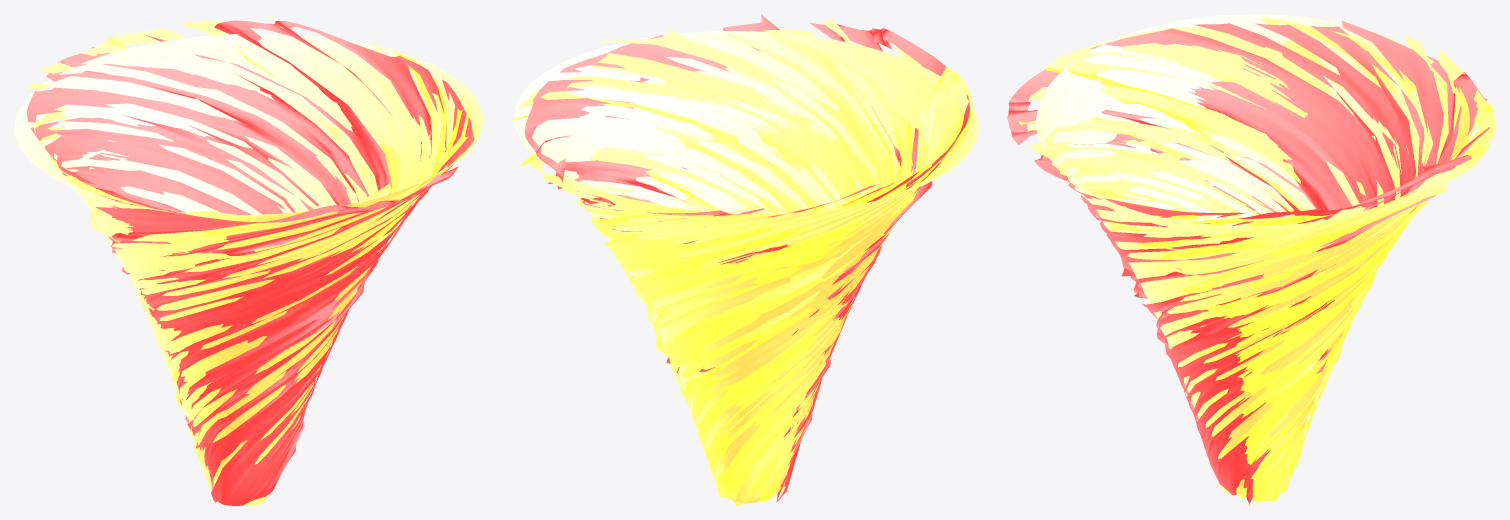
Rendered from tonado.fbx.
3 views of the same model, side by side, from view 1: azimuth 30°, elevation 25°; view 2: azimuth 150°, elevation 25°; view 3: azimuth 270°, elevation 25° (orthographic).
Visible parts, largest first — view 1: Object_15, Object_9, Object_12; view 2: Object_9, Object_12, Object_15; view 3: Object_12, Object_15, Object_9.
Boxes of the visible parts, x1,y1,x2,y2 form: Object_15: (27, 20, 474, 505); Object_9: (14, 33, 482, 505); Object_12: (30, 14, 469, 490); Object_9: (514, 31, 978, 503); Object_12: (511, 18, 974, 505); Object_15: (524, 14, 969, 502); Object_12: (1018, 18, 1495, 501); Object_15: (1007, 21, 1489, 505); Object_9: (1036, 14, 1469, 496).
Size of the model in its own units: 7473 by 6677 by 7551.
